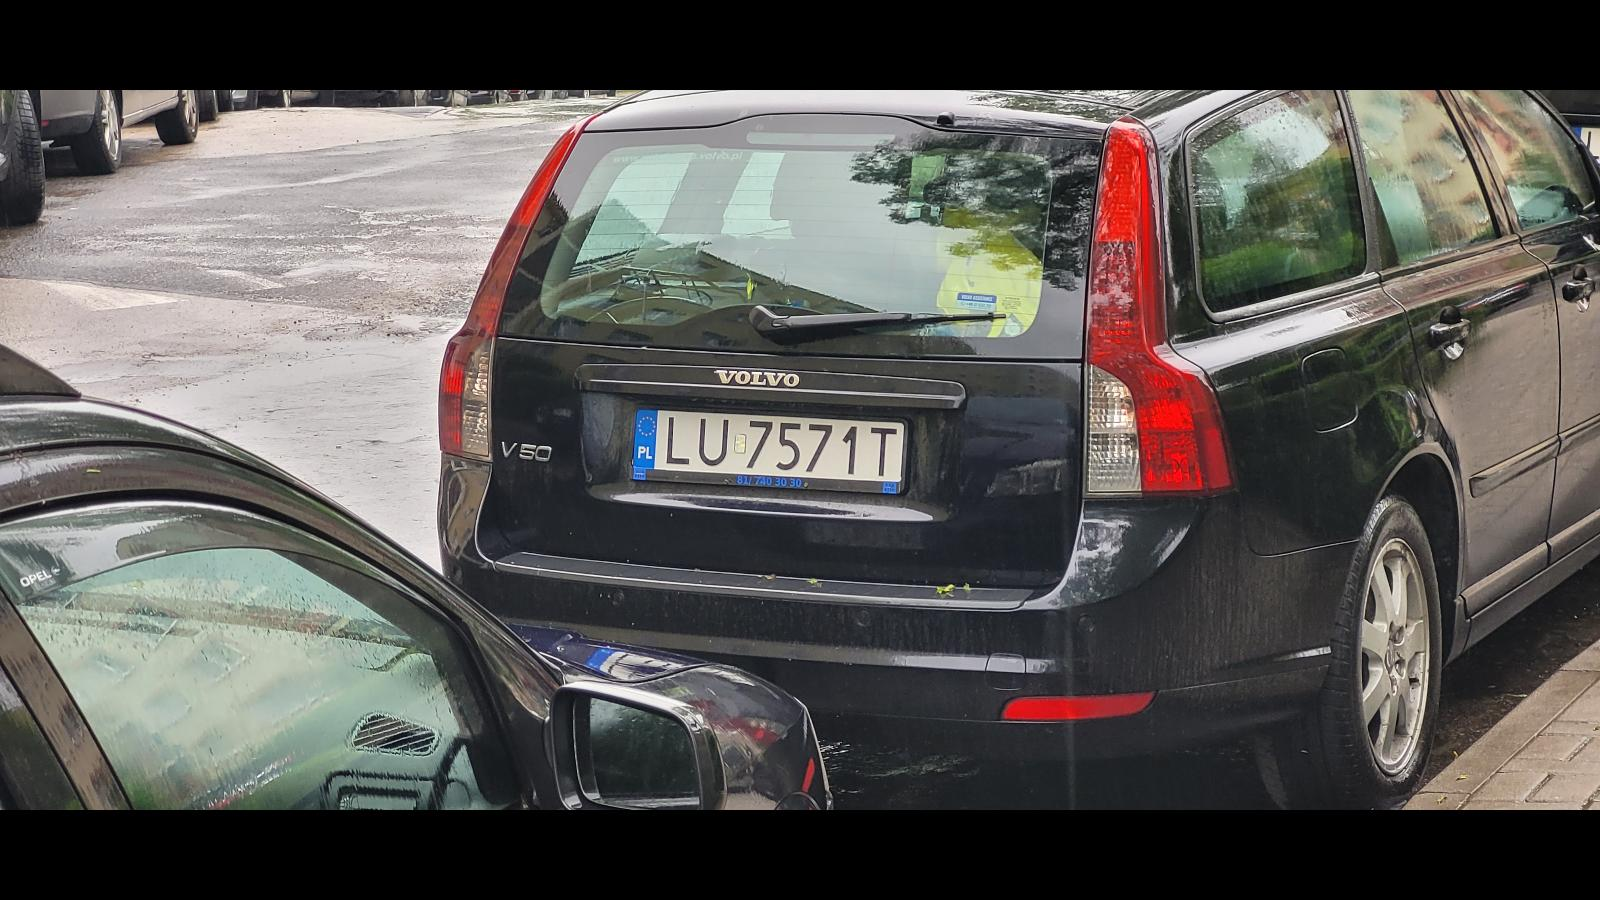plates: (628, 405, 908, 493)
